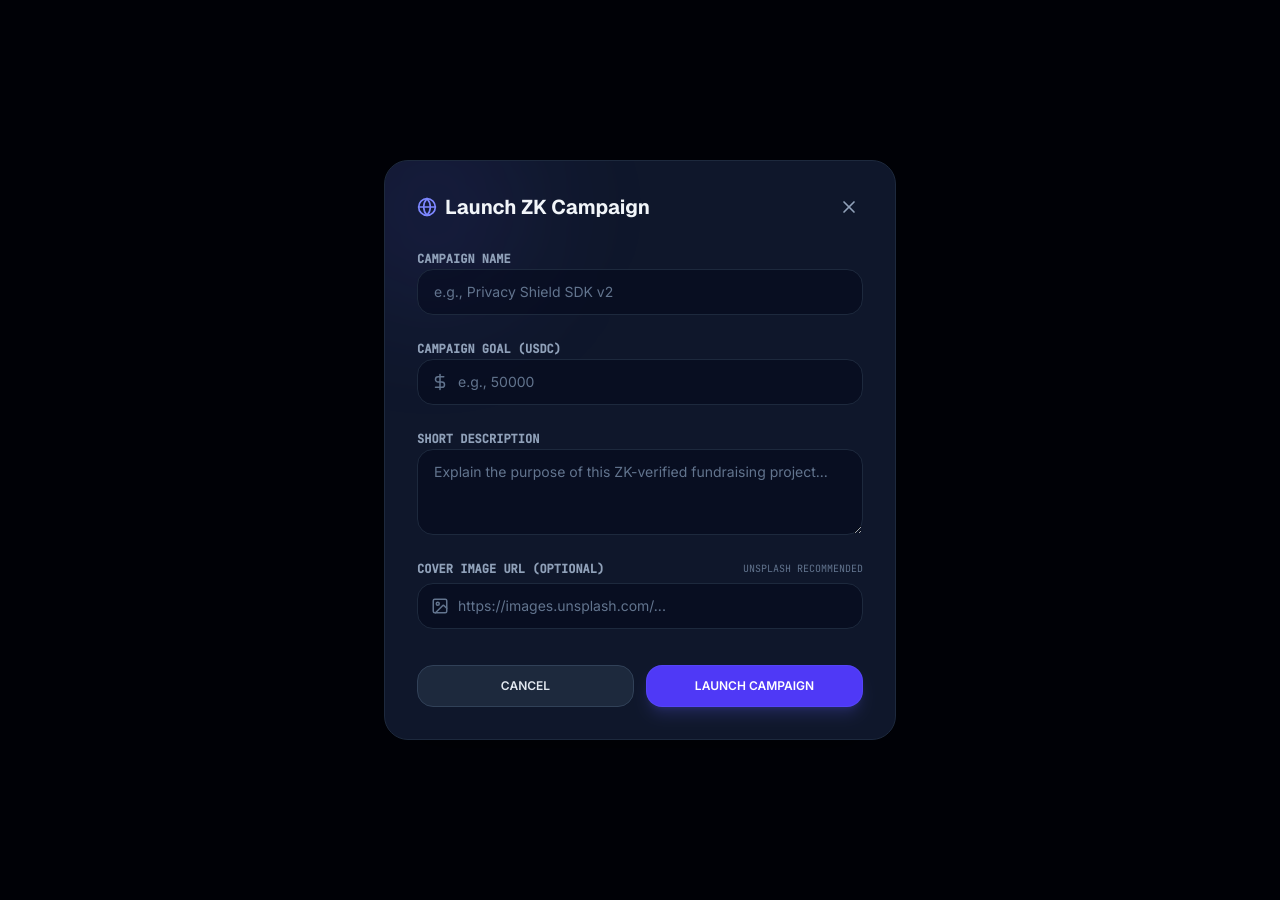
Test case: LaunchCampaignModal › keeps the modal open and shows the backend error
This screenshot has width=1280, height=900.
In the field with placeholder "e.g., Privacy Shield SDK v2": point(640, 292) [417,269,863,315], type " Relief Q4 "
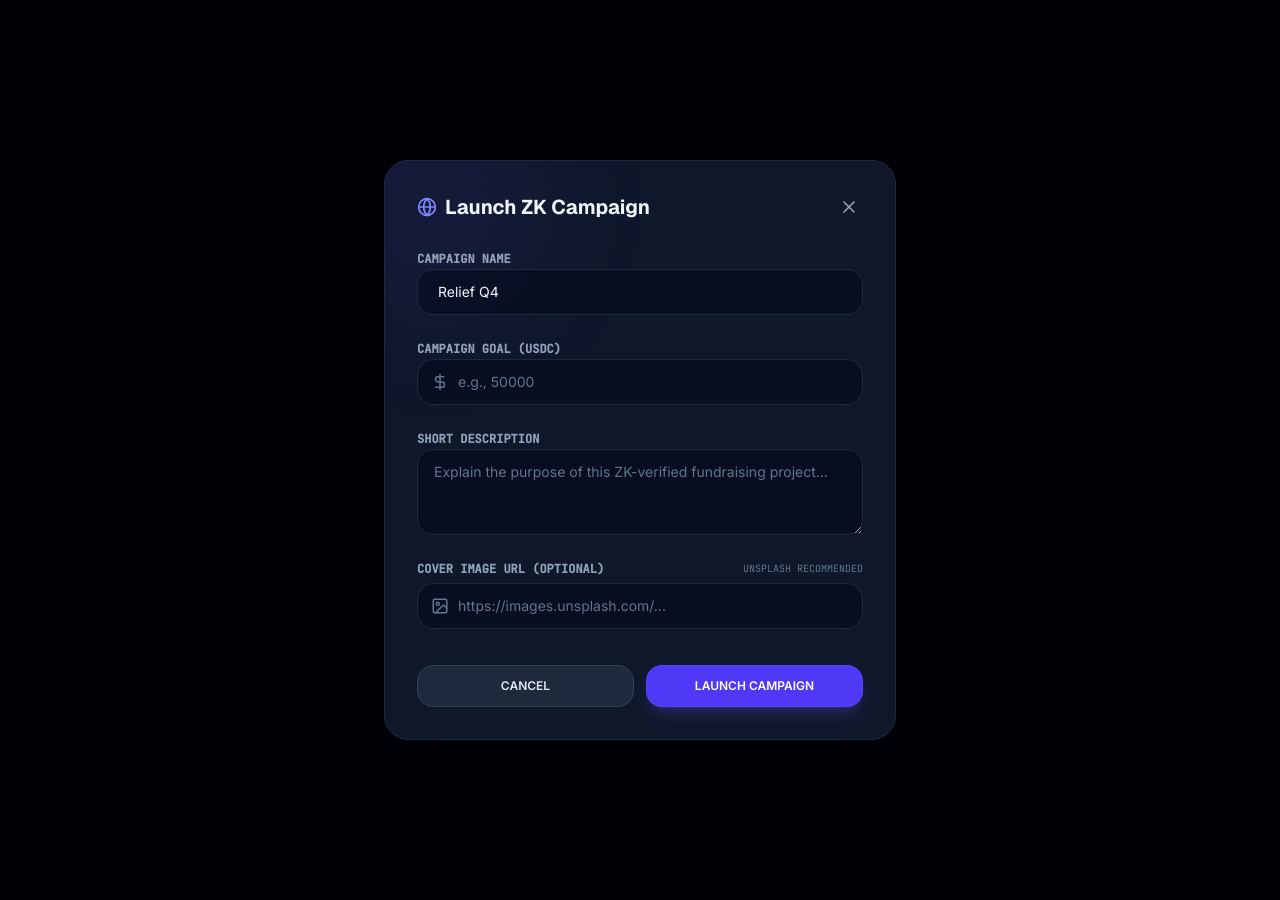
In the number field with placeholder "e.g., 50000": point(640, 382) [417,359,863,405], type "2500"
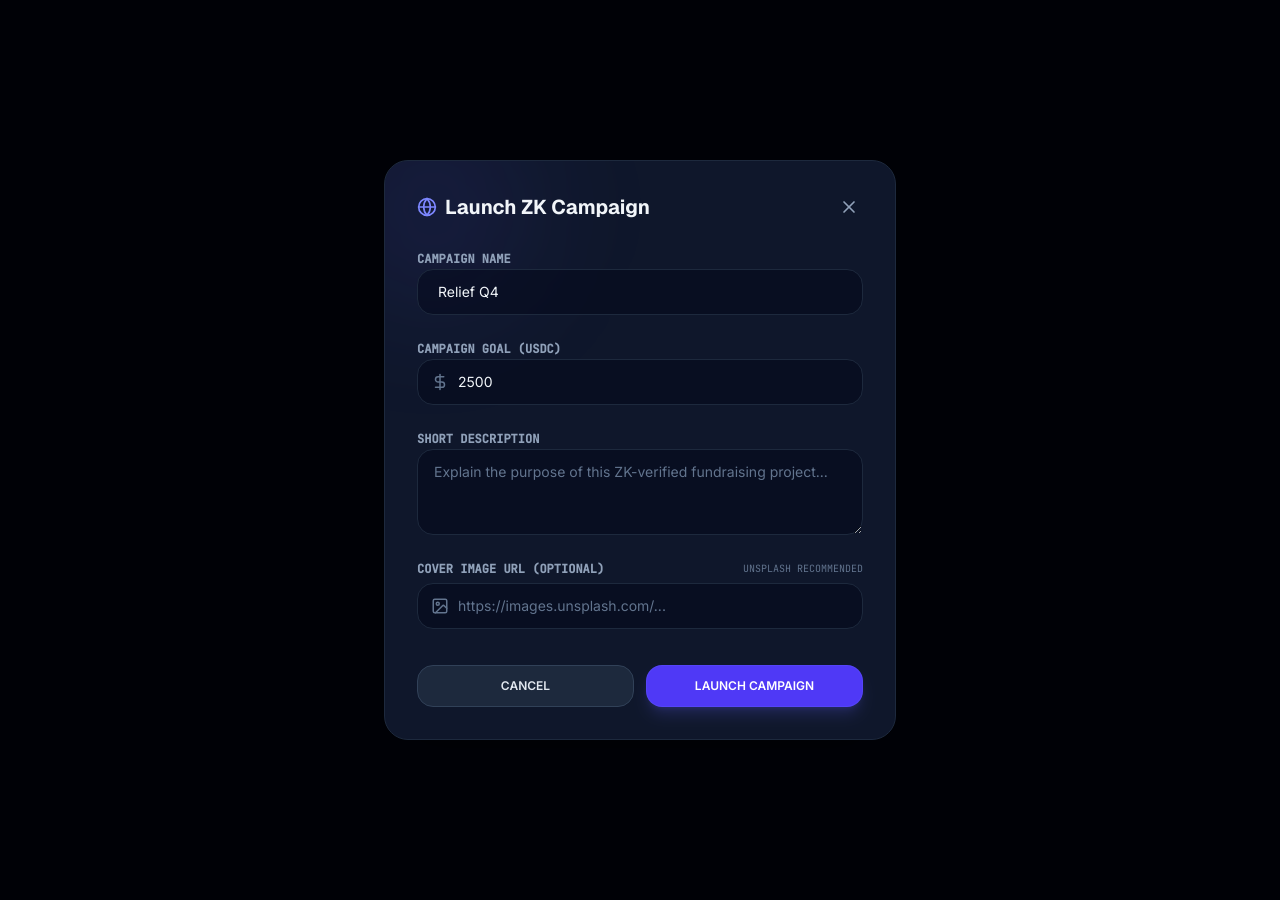
Replace the text in the text box with placeholder "Explain the purpose" with "Emergency relief": point(640, 492) [417,449,863,535]
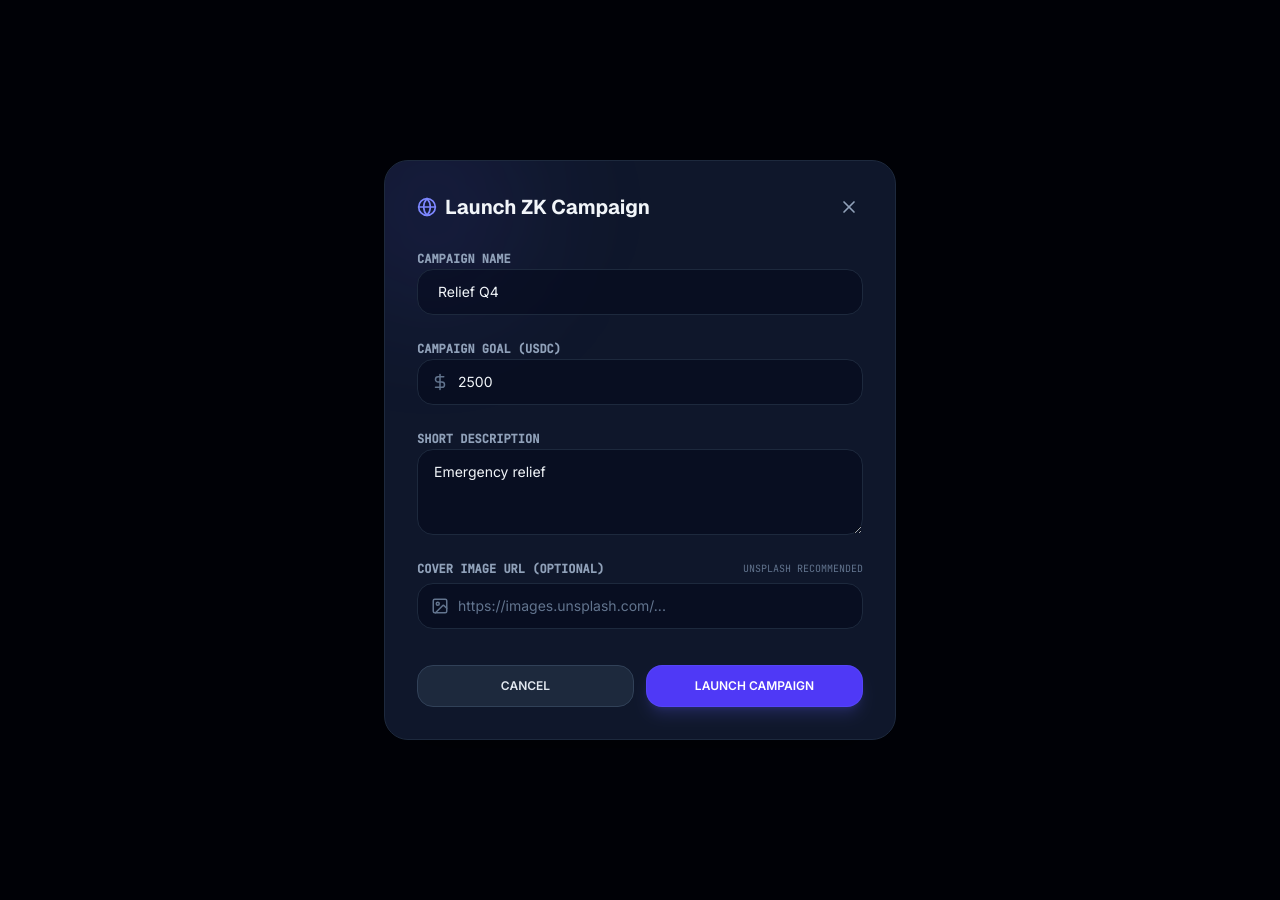
Click the button "LAUNCH CAMPAIGN": point(754, 686) [646,665,863,707]
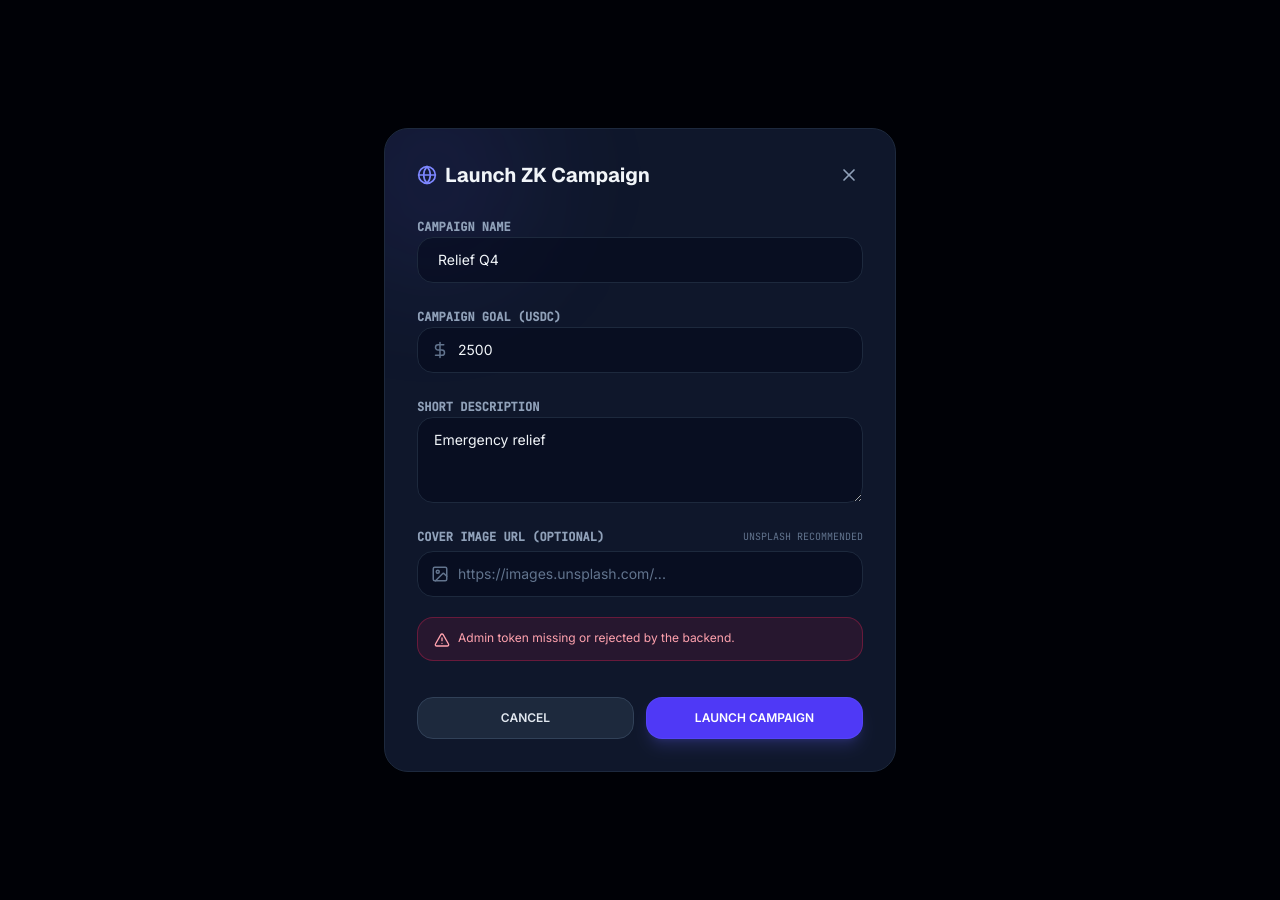
expect the message shows "rejected by the backend": met, box [458,630,735,645]
